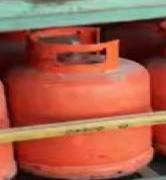cylinder: (1, 0, 166, 180)
